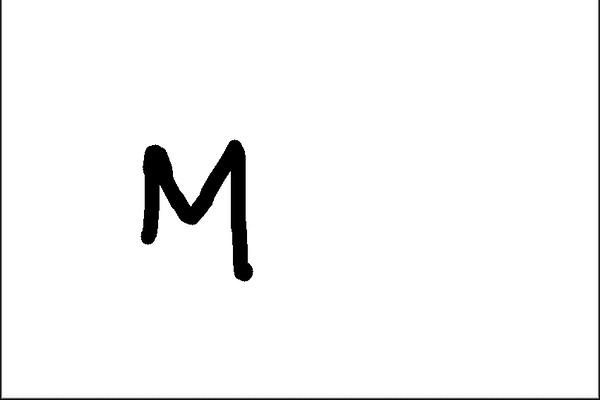M: (134, 139, 255, 282)
